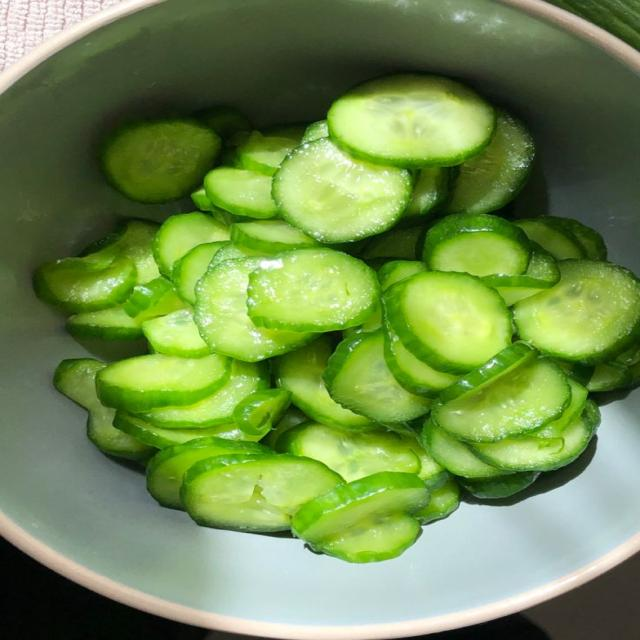cucumber sliced: (327, 74, 496, 168), (272, 138, 413, 242), (383, 272, 512, 374), (514, 260, 639, 363), (292, 472, 429, 563), (180, 454, 341, 531), (194, 258, 313, 362), (432, 359, 571, 442), (247, 248, 379, 332), (54, 359, 154, 459), (324, 331, 431, 424), (102, 119, 220, 203), (274, 336, 376, 430), (147, 436, 272, 509), (445, 111, 534, 213), (473, 401, 599, 471), (144, 361, 268, 429), (278, 423, 420, 481), (96, 354, 229, 412), (423, 214, 531, 276), (34, 252, 137, 313), (440, 342, 537, 403), (114, 411, 253, 448), (80, 218, 159, 283), (421, 420, 508, 478), (385, 327, 456, 396), (154, 212, 229, 277), (482, 247, 559, 305), (87, 408, 157, 463), (205, 168, 276, 218), (172, 241, 227, 304), (532, 377, 588, 437), (398, 427, 450, 491), (142, 310, 211, 358), (515, 218, 586, 260), (231, 220, 318, 254), (400, 168, 451, 225), (123, 277, 185, 322), (234, 389, 291, 437), (545, 216, 606, 260), (239, 132, 298, 176), (66, 308, 143, 340), (459, 472, 539, 499), (414, 478, 460, 524), (261, 405, 308, 450), (359, 228, 424, 260), (194, 106, 252, 141), (207, 242, 267, 270), (378, 260, 427, 290), (587, 363, 631, 391), (262, 122, 310, 145), (191, 186, 216, 211), (301, 120, 328, 143)
